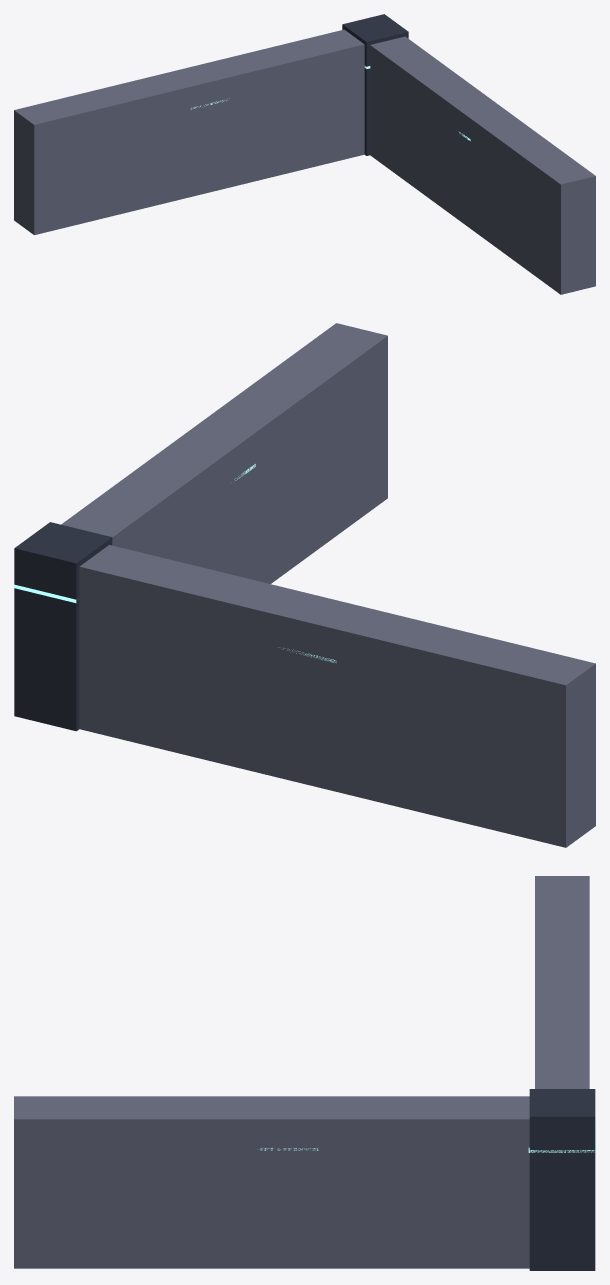
File: SM_Wall_Corner.fbx
3 renders of one model, top to bottom at view 1: azimuth 30°, elevation 25°; view 2: azimuth 150°, elevation 25°; view 3: azimuth 270°, elevation 25°, orthographic. The views are drawn at different scales.
Visible parts, largest first — view 1: SM_Wall_Corner; view 2: SM_Wall_Corner; view 3: SM_Wall_Corner.
Boxes of the visible parts, x1,y1,x2,y2 form: SM_Wall_Corner: [14, 14, 595, 294]; SM_Wall_Corner: [14, 323, 595, 847]; SM_Wall_Corner: [14, 876, 595, 1270].
Size of the model in its own units: 424 by 424 by 124.
